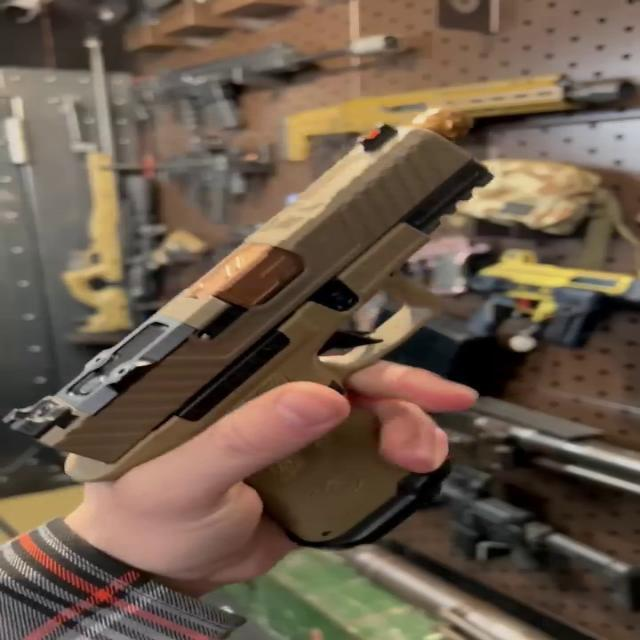Handgun: (11, 117, 518, 565)
